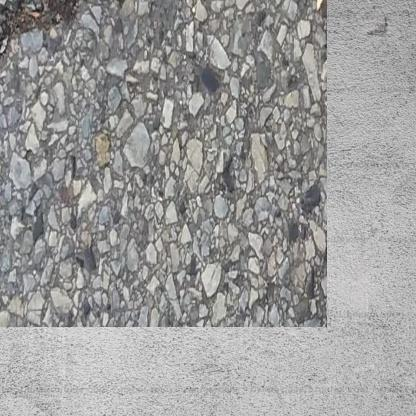Cracks: (0, 0, 127, 101)
